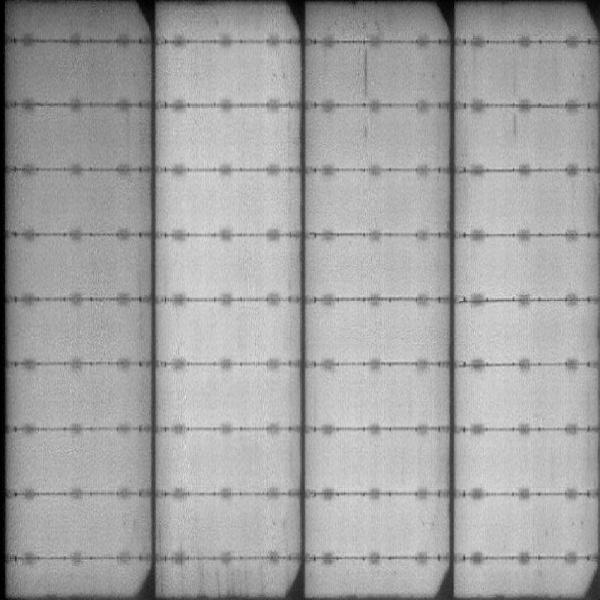scratch: (357, 49, 373, 106)
